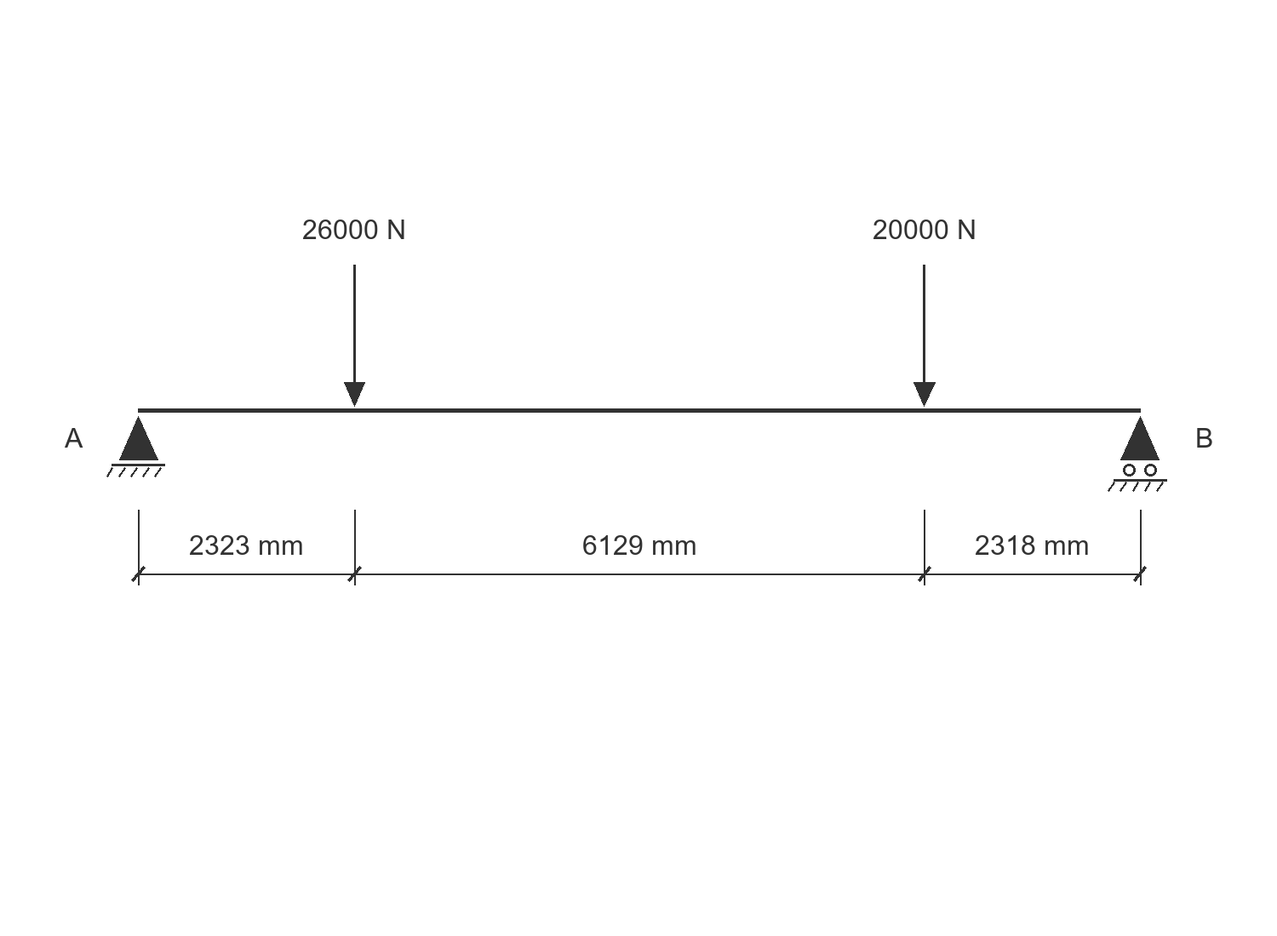pin_support: (106, 416, 165, 477)
point_load: (913, 265, 936, 407), (344, 265, 365, 407)
roller_support: (1108, 416, 1167, 492)
